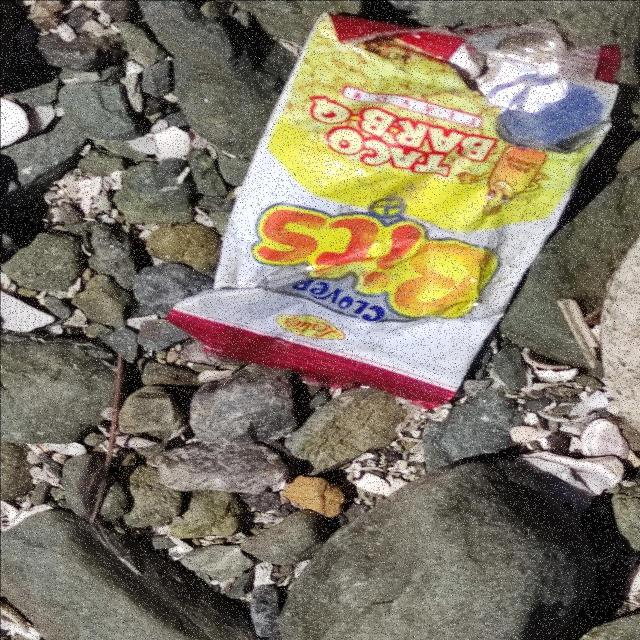plastic_waste: (165, 14, 618, 411)
